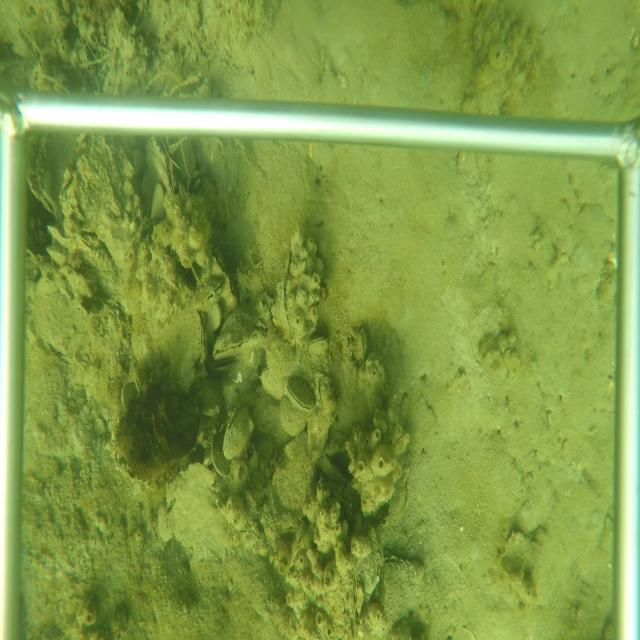Oyster-Closed: (380, 550, 427, 626), (210, 307, 270, 361), (167, 311, 206, 391), (384, 448, 420, 529), (27, 132, 59, 219), (221, 399, 254, 463), (147, 138, 178, 194), (209, 250, 237, 304), (283, 372, 318, 415), (279, 248, 294, 341), (278, 393, 306, 440), (193, 274, 227, 312), (307, 333, 331, 358), (351, 326, 367, 363), (131, 365, 147, 394)
Oyster-Indeterminate: (58, 136, 146, 274), (271, 431, 316, 508), (209, 426, 232, 480)
